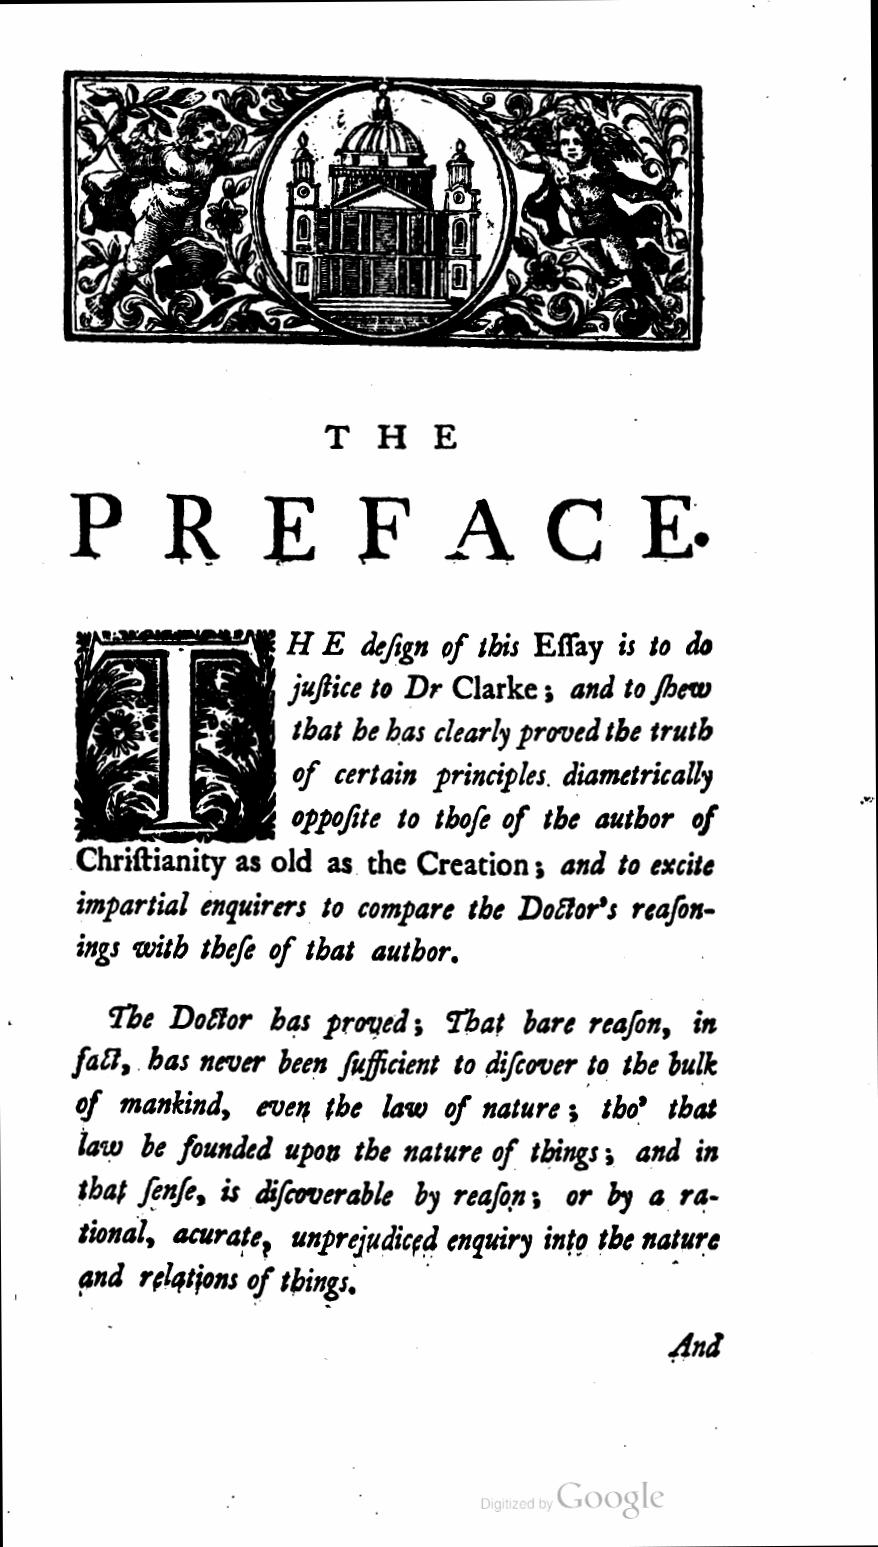catchword: (664, 1328, 729, 1365)
full_p: (72, 626, 722, 974), (72, 997, 727, 1305), (63, 418, 717, 582)
initial_l: (73, 629, 281, 844)
viz: (56, 64, 710, 359)
